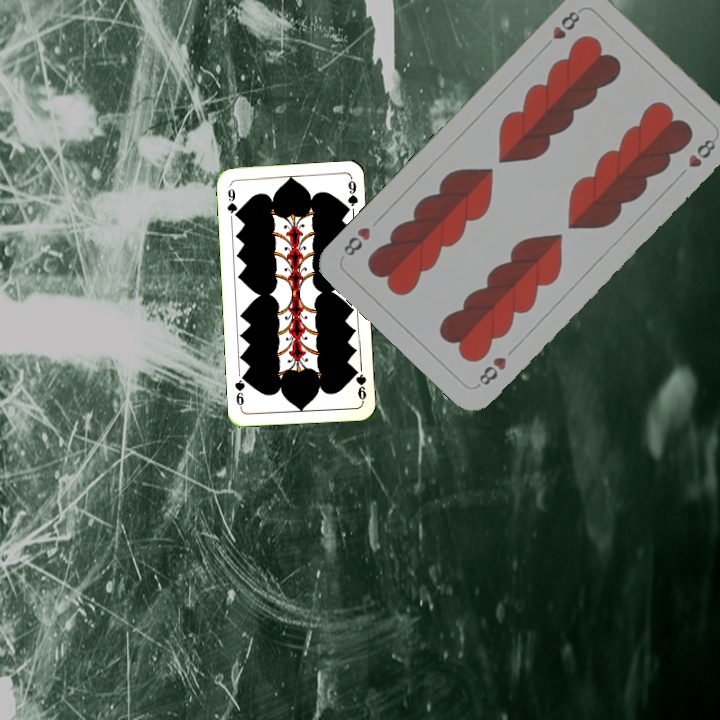G9: (349, 364, 369, 404), (223, 182, 240, 221)
H8: (539, 7, 583, 52), (473, 353, 509, 390)
